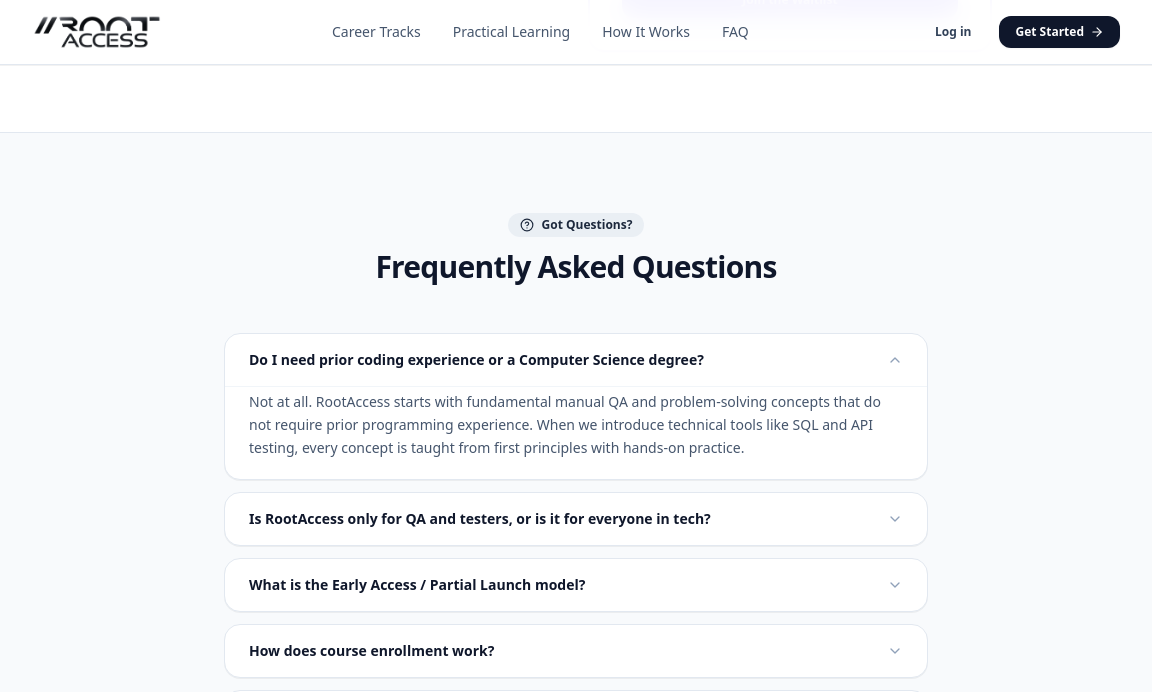
Test case: HomePage Component (Phase 2) › toggles FAQ questions open and closed on click
(page scrolled)
expect the text "Do I need prior coding experience" is shown: met, box [249,350,704,369]
expect the text "Not at all. RootAccess starts with fundamental manual QA" is shown: met, box [249,392,881,456]
Click to toggle close
What coordinates should you click on to do the following:
click the button "Do I need prior coding experience"
I would click on:
 (576, 360)
Its box is [225,334,927,386].
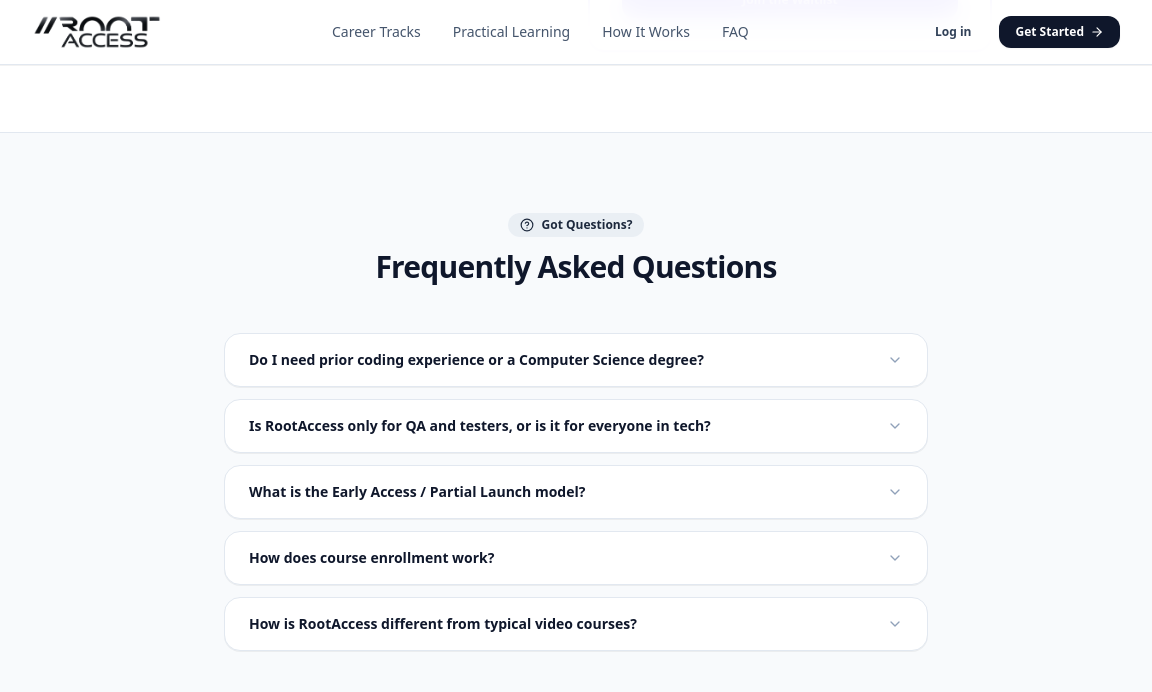
expect the text "Not at all. RootAccess starts with fundamental manual QA" is gone: met
Click to toggle open again
What coordinates should you click on to do the following:
click the button "Do I need prior coding experience"
I would click on:
 (576, 360)
Its box is [225,334,927,386].
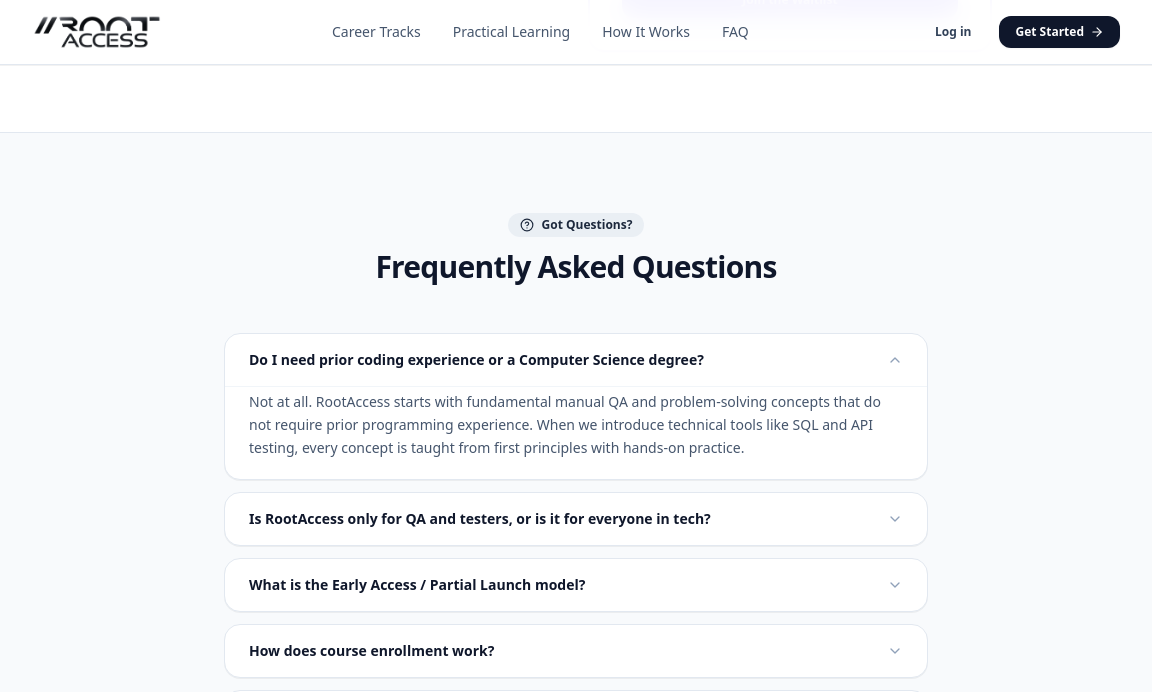
expect the text "Not at all. RootAccess starts with fundamental manual QA" is shown: met, box [249,392,881,456]
